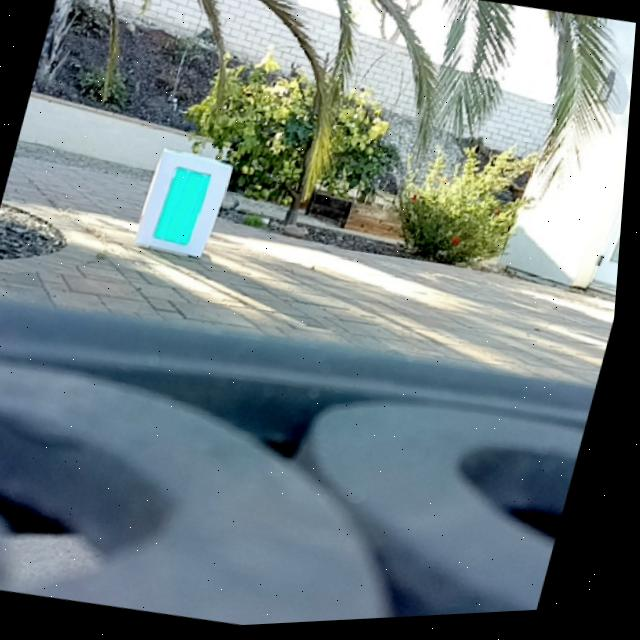led: (154, 164, 219, 253)
